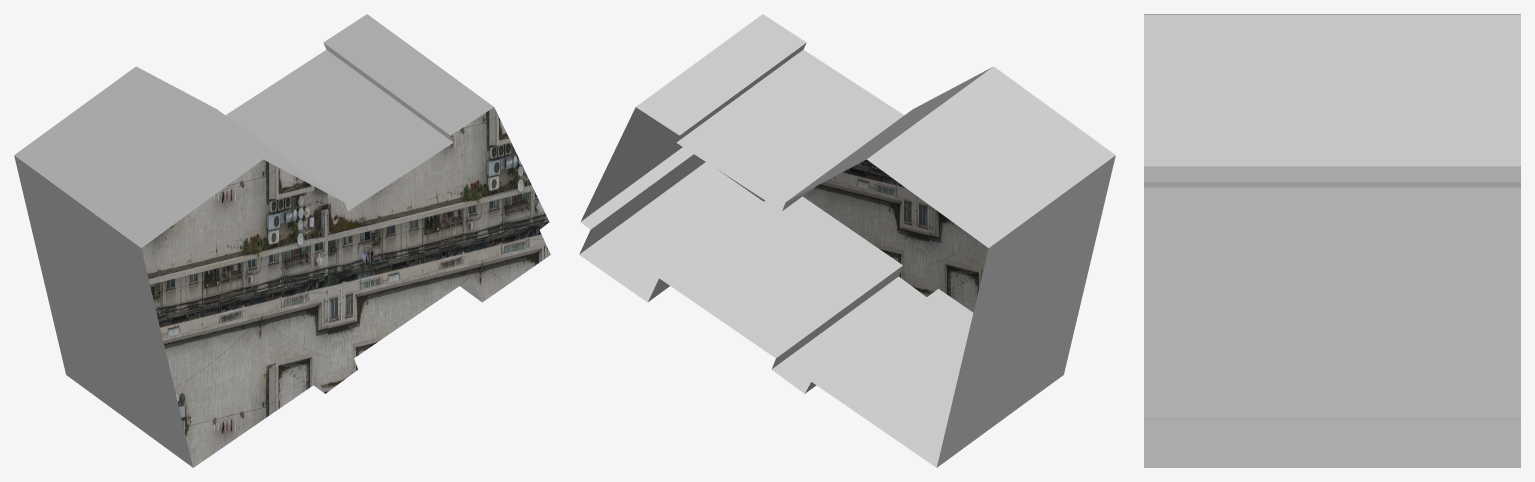
The model's file is geospecific_1517.obj.
The picture shows the model from 3 angles, left to right: view 1: azimuth 30°, elevation 25°; view 2: azimuth 150°, elevation 25°; view 3: azimuth 270°, elevation 25°; orthographic projection. The views are drawn at different scales.
Parts seen in each view (by area): view 1: Building; view 2: Building; view 3: Building.
Part boxes in pixels (<box>): Building: <box>14,14,550,467</box>; Building: <box>579,14,1115,467</box>; Building: <box>1144,14,1520,467</box>.
Bounding box in the file's own units: 50.21 × 34.14 × 27.
